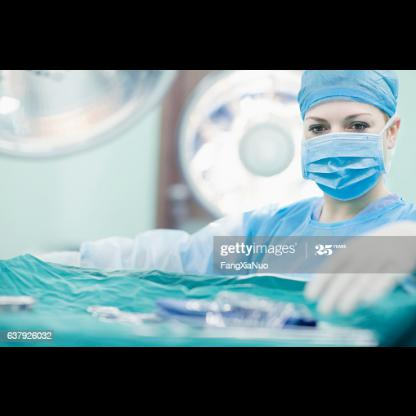Surgical Mask: (297, 80, 395, 200)
